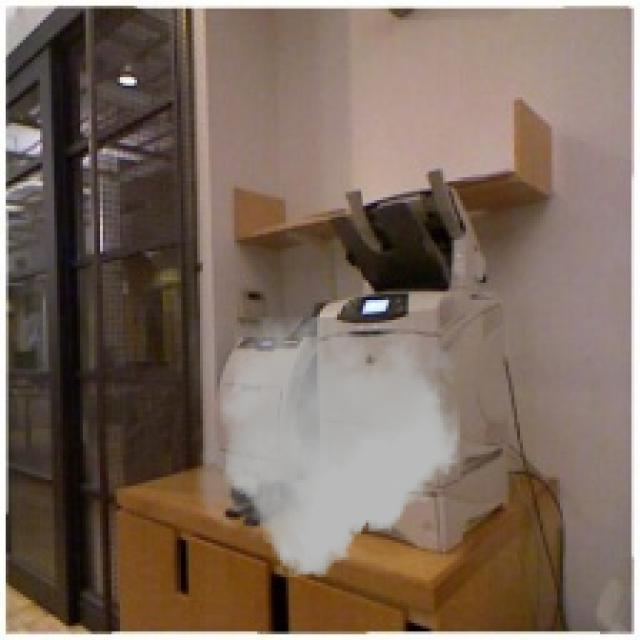Smoke: (188, 317, 466, 577)
